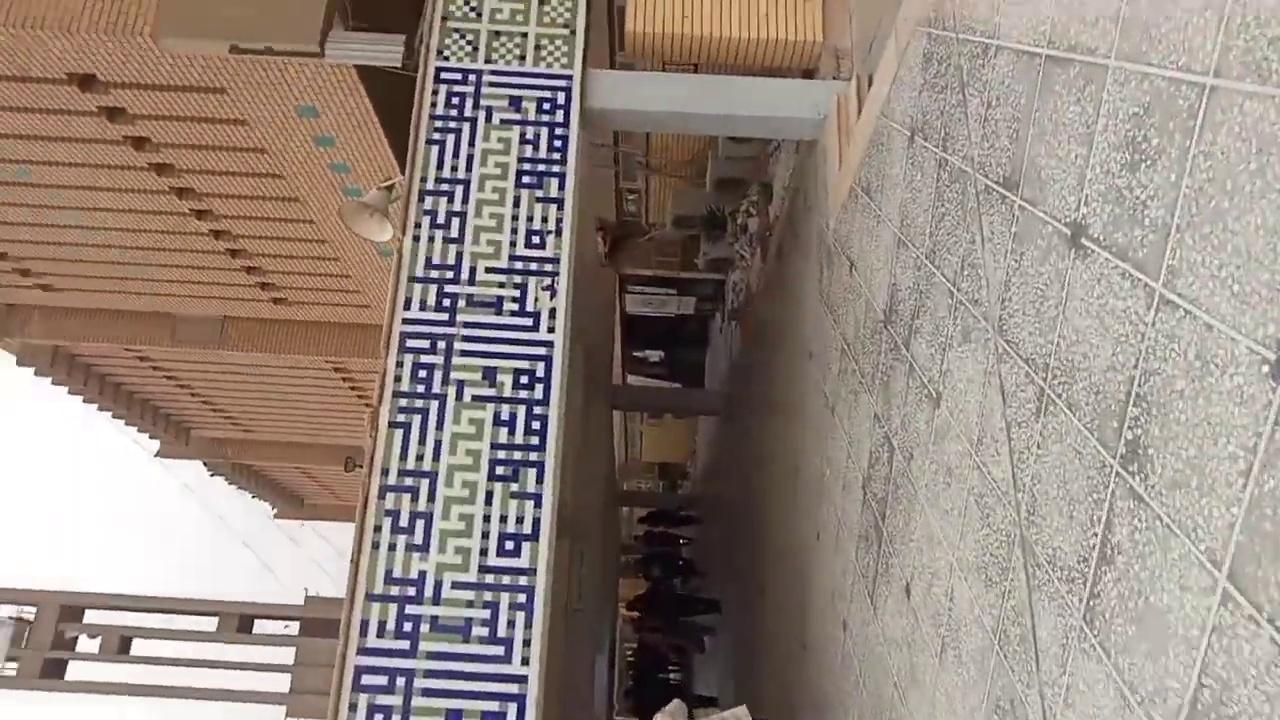person: (620, 688, 760, 720), (617, 583, 731, 616)
